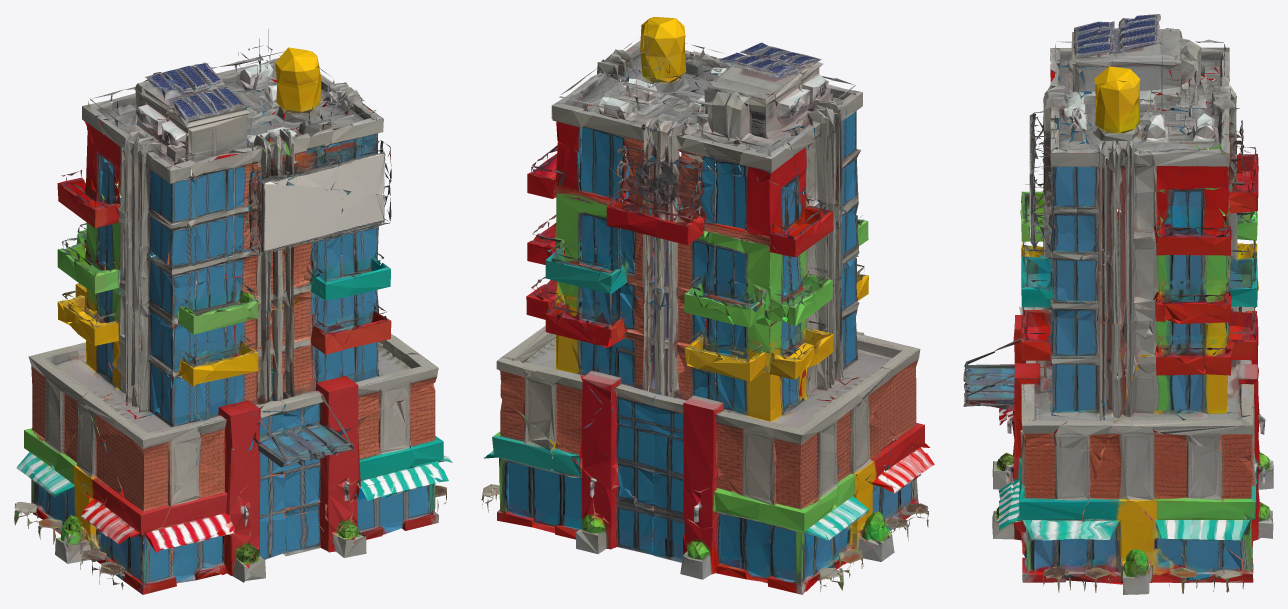
The model's file is JHB_HeroBuilding07_LOD1.fbx.
3 renders of one model, left to right at view 1: azimuth 30°, elevation 25°; view 2: azimuth 150°, elevation 25°; view 3: azimuth 270°, elevation 25°, orthographic. The views are drawn at different scales.
Visible parts, largest first — view 1: JHB_HeroBuilding07_LOD1; view 2: JHB_HeroBuilding07_LOD1; view 3: JHB_HeroBuilding07_LOD1.
Part boxes in pixels (x1,y1,x2,y2): JHB_HeroBuilding07_LOD1: (14,29,452,594); JHB_HeroBuilding07_LOD1: (481,17,934,594); JHB_HeroBuilding07_LOD1: (963,14,1273,594).
Size of the model in its own units: 13.65 by 18.13 by 10.35.
